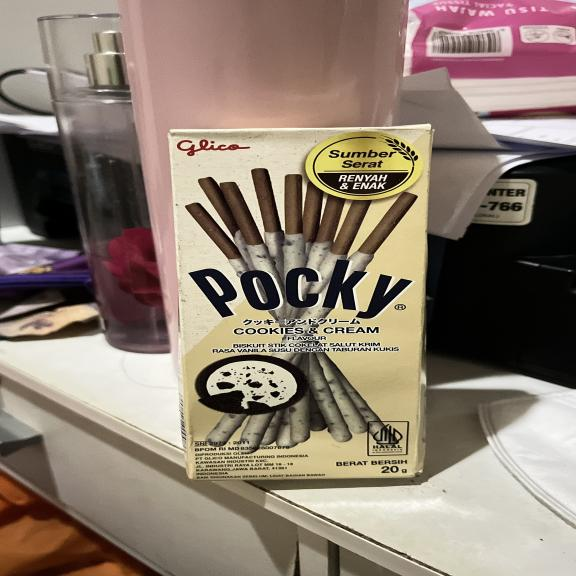Kertas: (170, 127, 429, 483)
